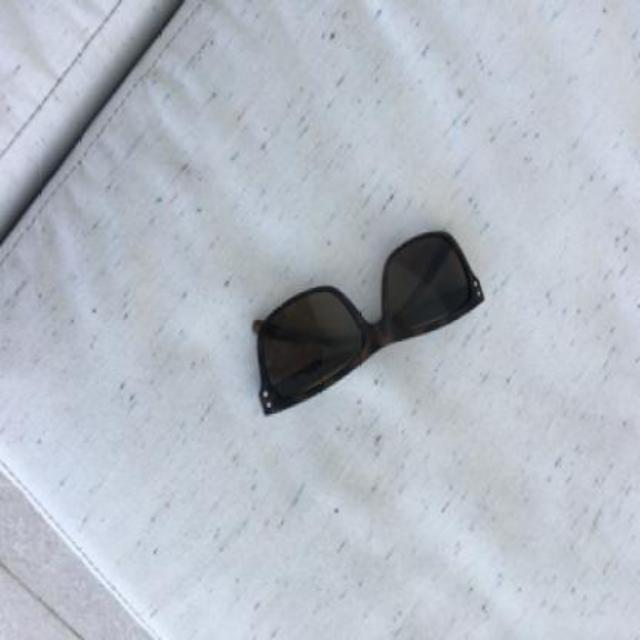glasses: (250, 228, 484, 416)
